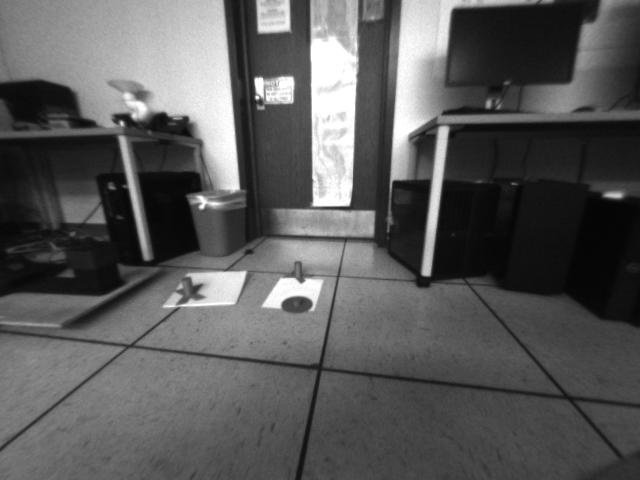X: (176, 276, 204, 304), (283, 260, 314, 282)
